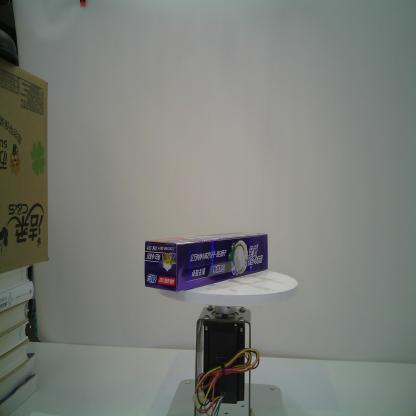Personal Hygiene: (143, 229, 269, 293)
